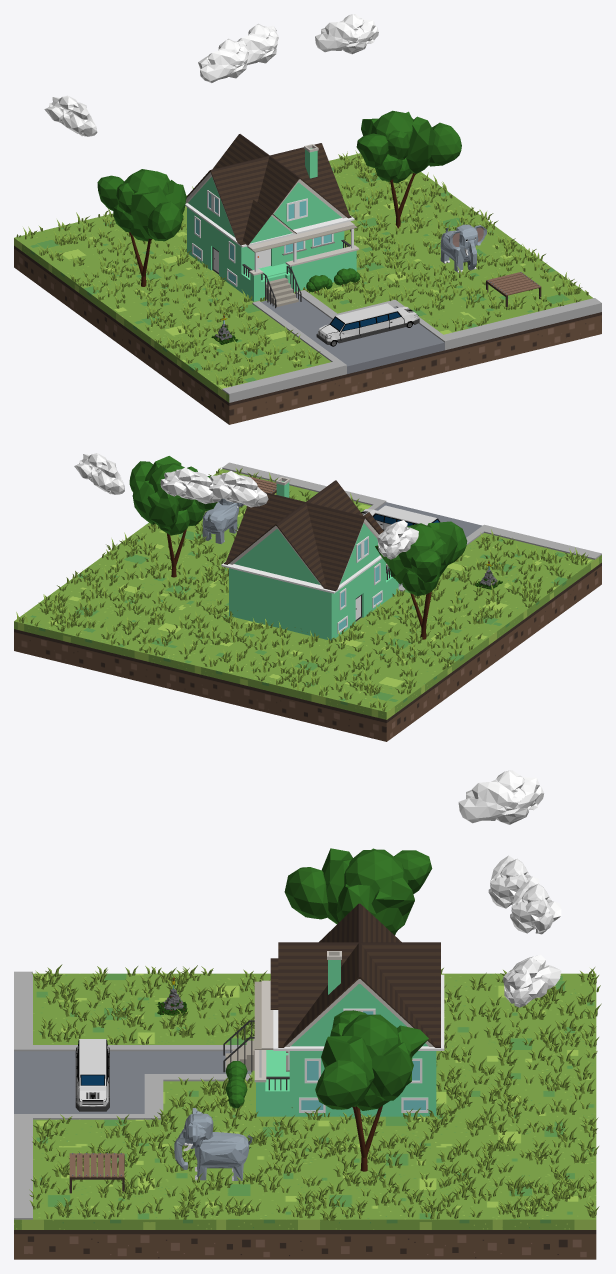
The picture shows the model from 3 angles, top to bottom: view 1: azimuth 30°, elevation 25°; view 2: azimuth 150°, elevation 25°; view 3: azimuth 270°, elevation 25°; orthographic projection. The views are drawn at different scales.
Visible parts, largest first — view 1: Cube.006, Cube.352, Circle.012_Grass_0.192, Cube.007, tree, tree.001, VEHICLES_LIMOUSINE, ANIMAL_ELEFANTE, Cube.009; view 2: Cube.006, Cube.352, Circle.012_Grass_0.192, Cube.007, tree.001, tree, ANIMAL_ELEFANTE, VEHICLES_LIMOUSINE; view 3: Cube.006, Circle.012_Grass_0.192, Cube.352, tree, Cube.007, tree.001, ANIMAL_ELEFANTE, VEHICLES_LIMOUSINE, Cube.009.
Part boxes in pixels (x1,y1,x2,y2): Cube.006: [14, 153, 601, 424]; Cube.352: [185, 134, 359, 308]; Circle.012_Grass_0.192: [16, 150, 588, 386]; Cube.007: [44, 14, 378, 136]; tree: [356, 110, 461, 228]; tree.001: [97, 169, 186, 286]; VEHICLES_LIMOUSINE: [316, 303, 419, 346]; ANIMAL_ELEFANTE: [440, 224, 486, 273]; Cube.009: [486, 272, 541, 306]; Cube.006: [14, 462, 601, 741]; Cube.352: [221, 477, 398, 640]; Circle.012_Grass_0.192: [16, 468, 588, 711]; Cube.007: [74, 453, 418, 559]; tree.001: [375, 521, 467, 639]; tree: [129, 456, 216, 577]; ANIMAL_ELEFANTE: [202, 498, 243, 543]; VEHICLES_LIMOUSINE: [361, 505, 439, 530]; Cube.006: [14, 971, 596, 1259]; Circle.012_Grass_0.192: [29, 964, 601, 1220]; Cube.352: [223, 903, 444, 1116]; tree: [315, 1010, 428, 1171]; Cube.007: [458, 770, 561, 1007]; tree.001: [284, 848, 432, 935]; ANIMAL_ELEFANTE: [174, 1108, 252, 1180]; VEHICLES_LIMOUSINE: [75, 1039, 109, 1111]; Cube.009: [69, 1153, 124, 1193].
Bounding box in the file's own units: 4071 × 2179 × 4040.
41 materials, 3 textured.
